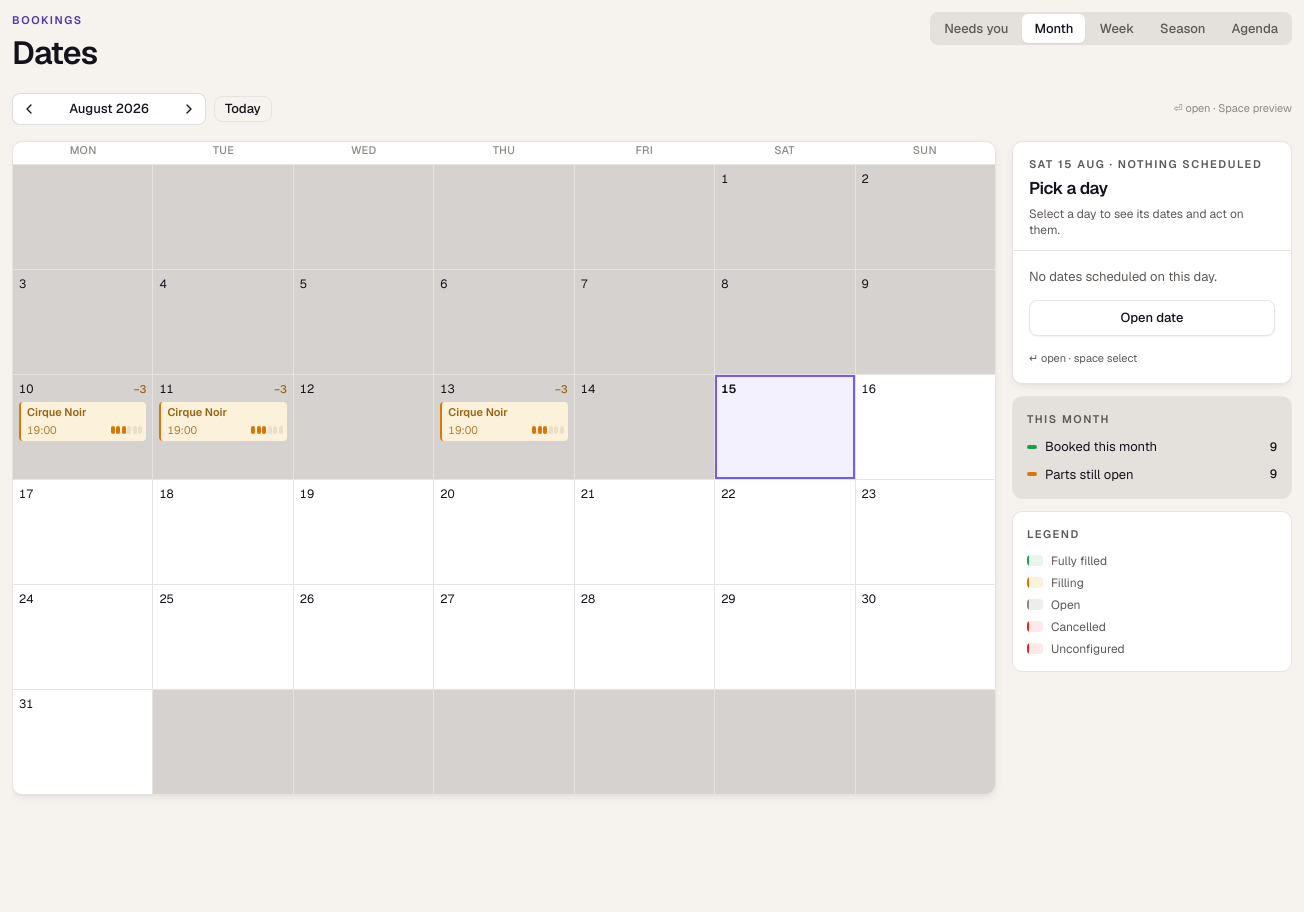
Test: CalendarSurface — range selection + SelectionBar (producer, month lens) › shift-click-to-range: plain click date A then shift-click date C selects the full A..C span; a fresh plain click clears the range
Plain click date A (10 Aug) — no drag, so no range should appear yet.
Step 1. Click the button with test id "month-grid-cell-2026-08-10" → (83, 427), box [13,375,152,479]
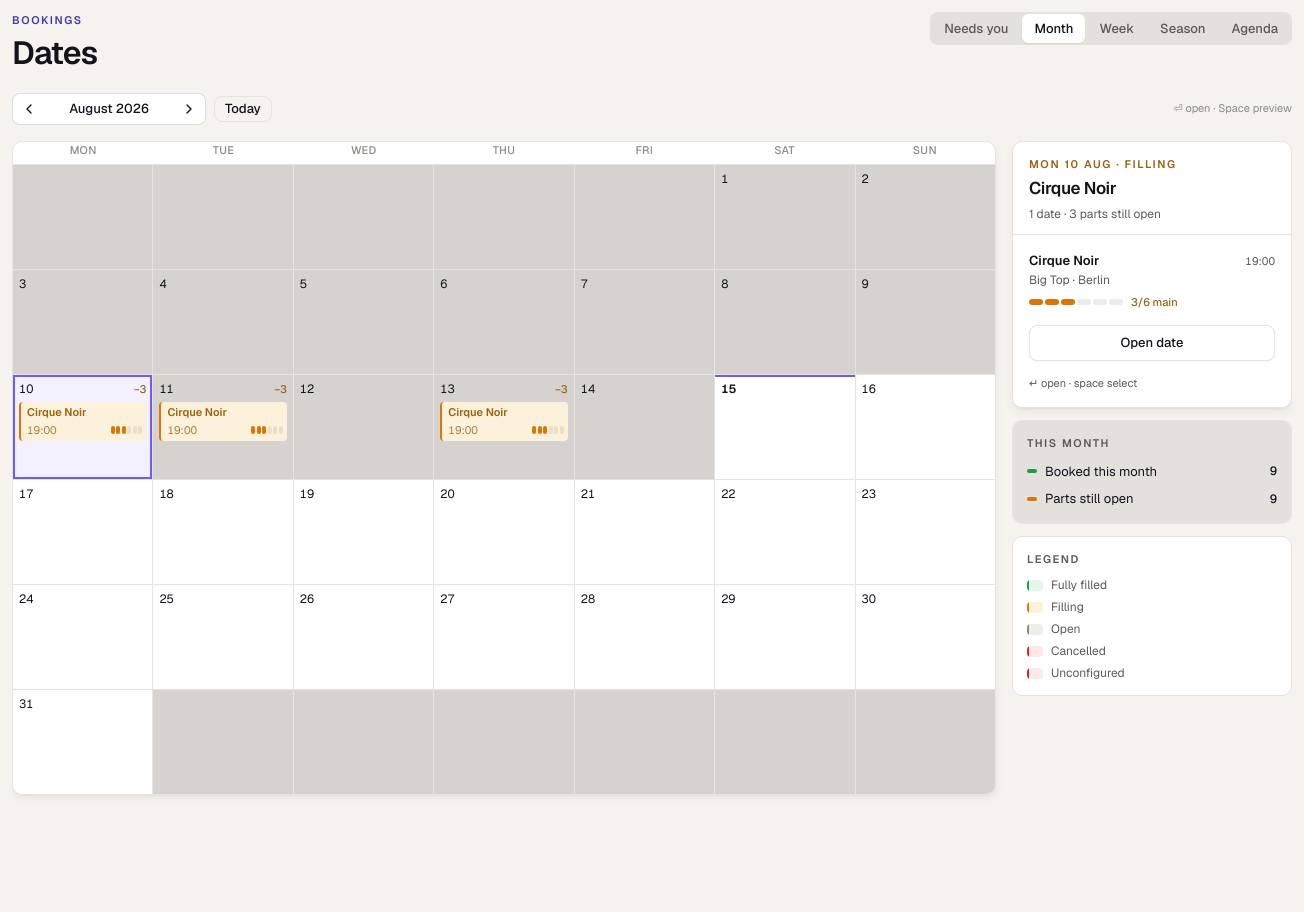
Step 2. Press the mouse on the button with test id "month-grid-cell-2026-08-13" → (504, 427), box [434,375,574,479]
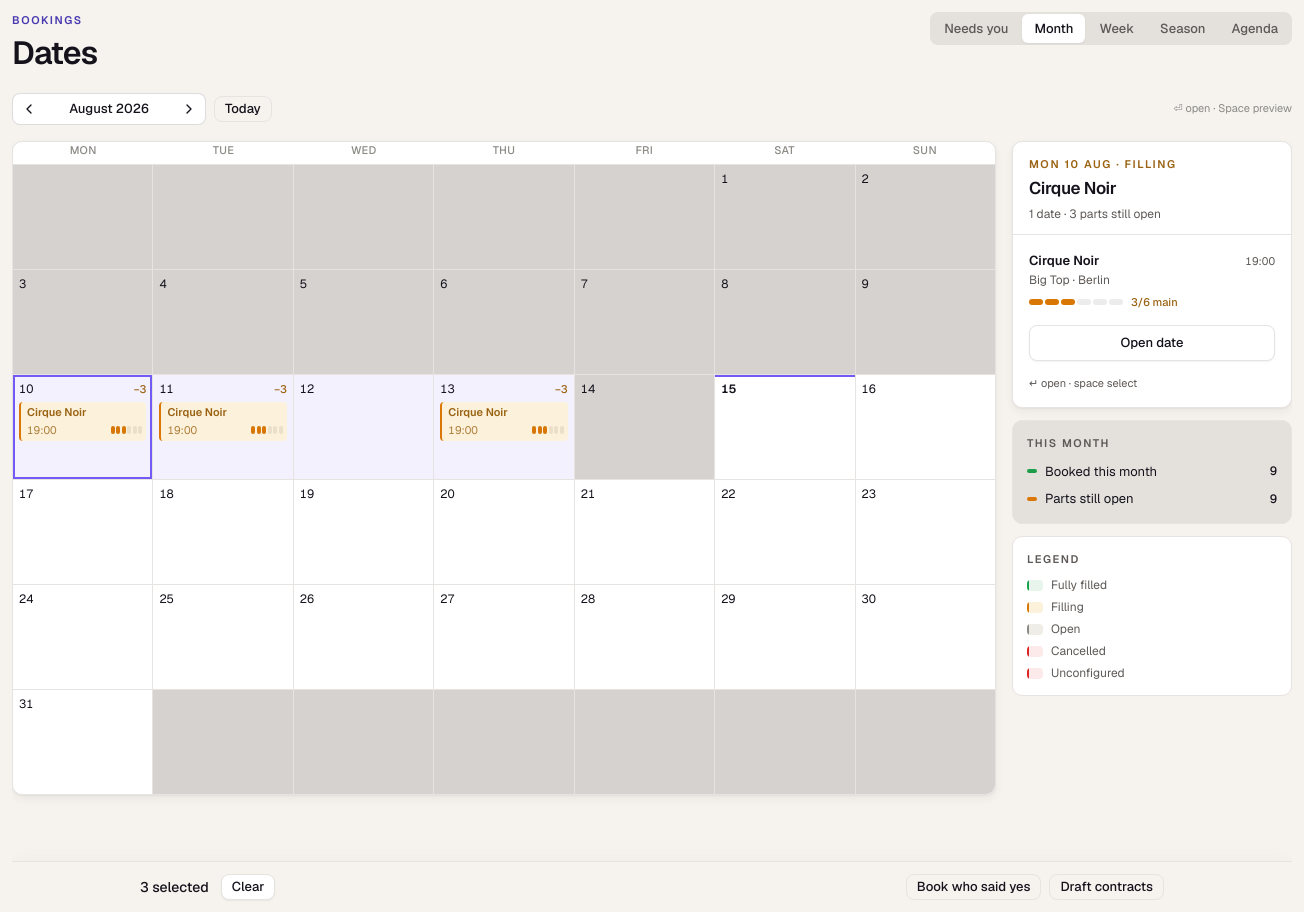
Check: the element with test id "selection-bar" shows "3 selected", box [140,878,209,896]
A fresh plain click resets the anchor — the stale range must disappear.
Step 3. Click the button with test id "month-grid-cell-2026-08-11" → (223, 427), box [153,375,293,479]
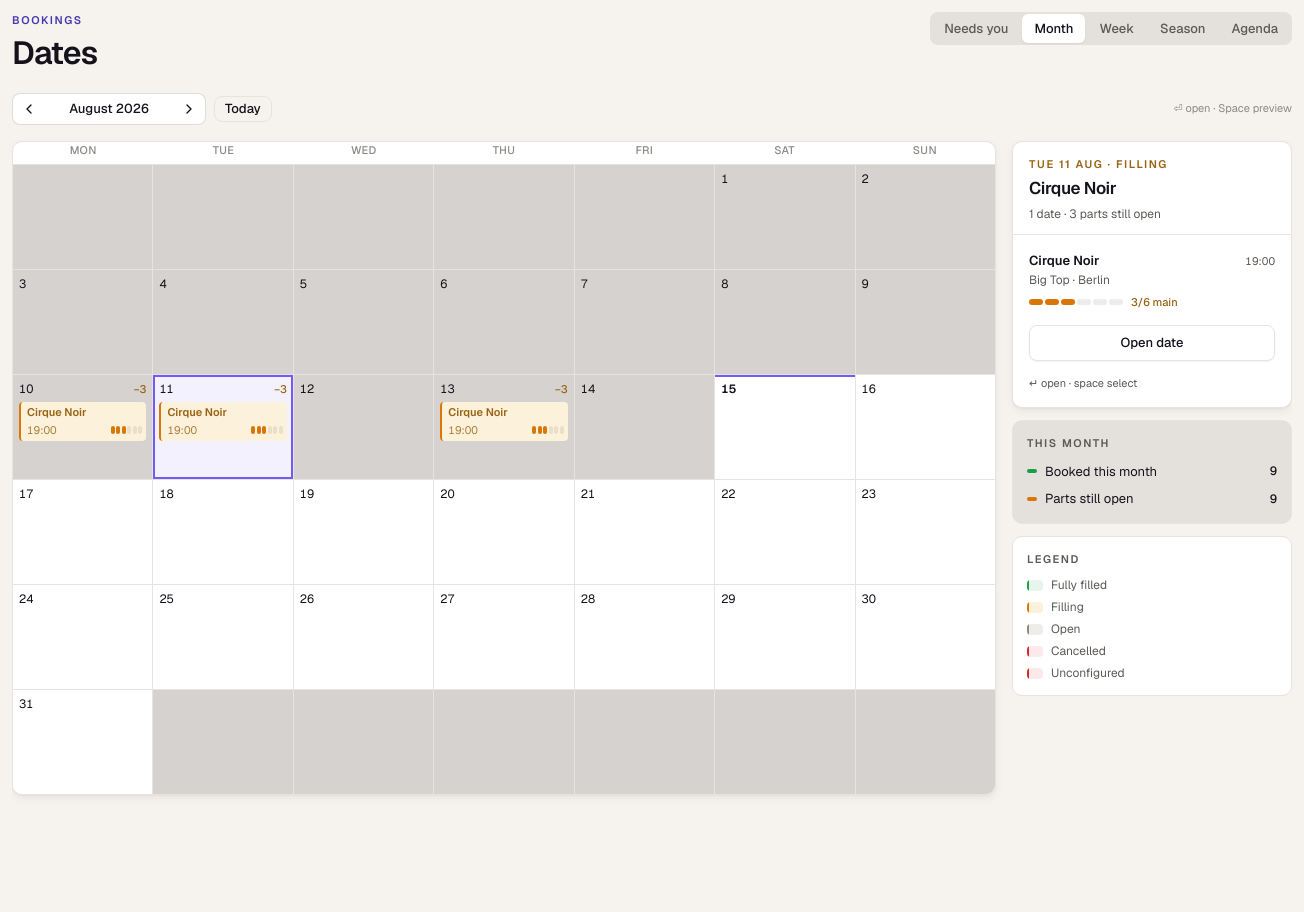
Check: the element with test id "selection-bar" is gone
